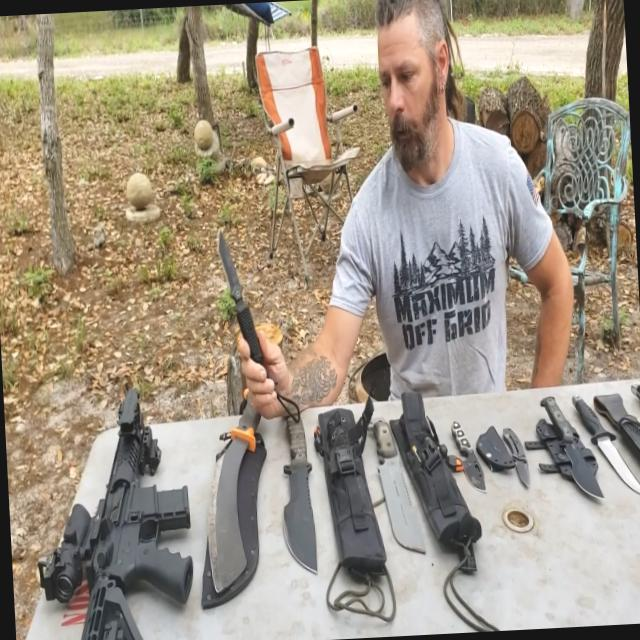knife: (184, 367, 278, 610), (367, 387, 446, 586), (213, 206, 293, 396), (535, 369, 602, 508), (268, 396, 322, 566), (567, 381, 639, 506), (444, 380, 502, 524), (501, 414, 542, 511)
long weapon: (25, 351, 224, 639)
